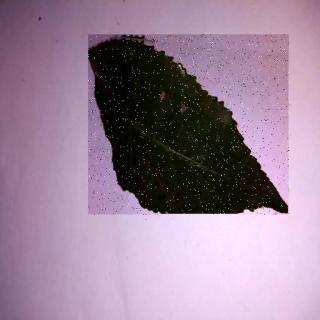Bird Eye Spot: (90, 36, 291, 217)
